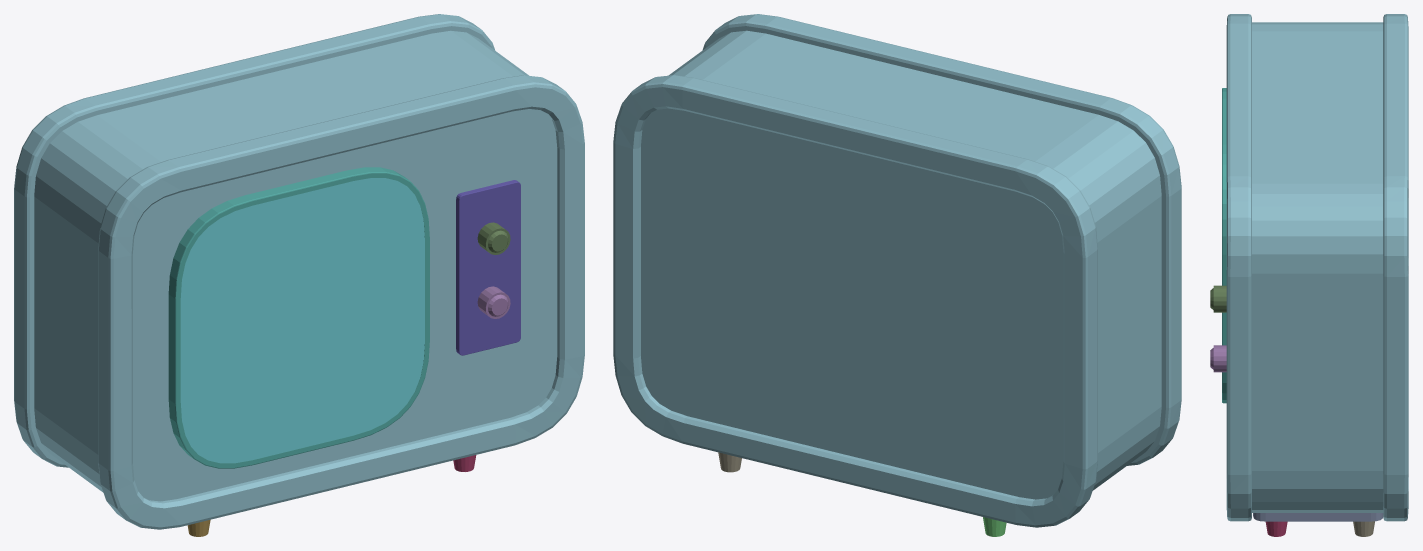
3 views of the same model, side by side, from view 1: azimuth 30°, elevation 25°; view 2: azimuth 150°, elevation 25°; view 3: azimuth 270°, elevation 25° (orthographic). The views are drawn at different scales.
Visible parts, largest first — view 1: world; view 2: world; view 3: world.
Boxes of the visible parts, x1,y1,x2,y2 form: world: (14, 14, 584, 536); world: (613, 14, 1181, 536); world: (1210, 14, 1408, 536).
Bounding box in the file's own units: 2 × 1.58 × 0.7719.
